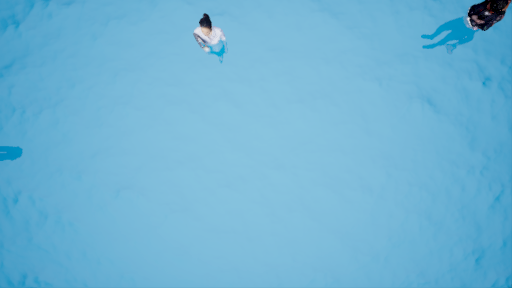person: (415, 1, 512, 62), (188, 7, 233, 71)
